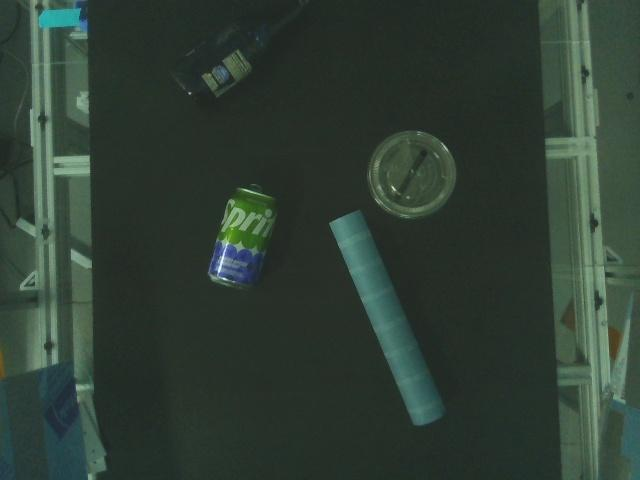cardboard: (328, 206, 447, 427)
glass: (167, 0, 313, 108)
metal: (207, 183, 278, 291)
plastic: (366, 127, 458, 221)
